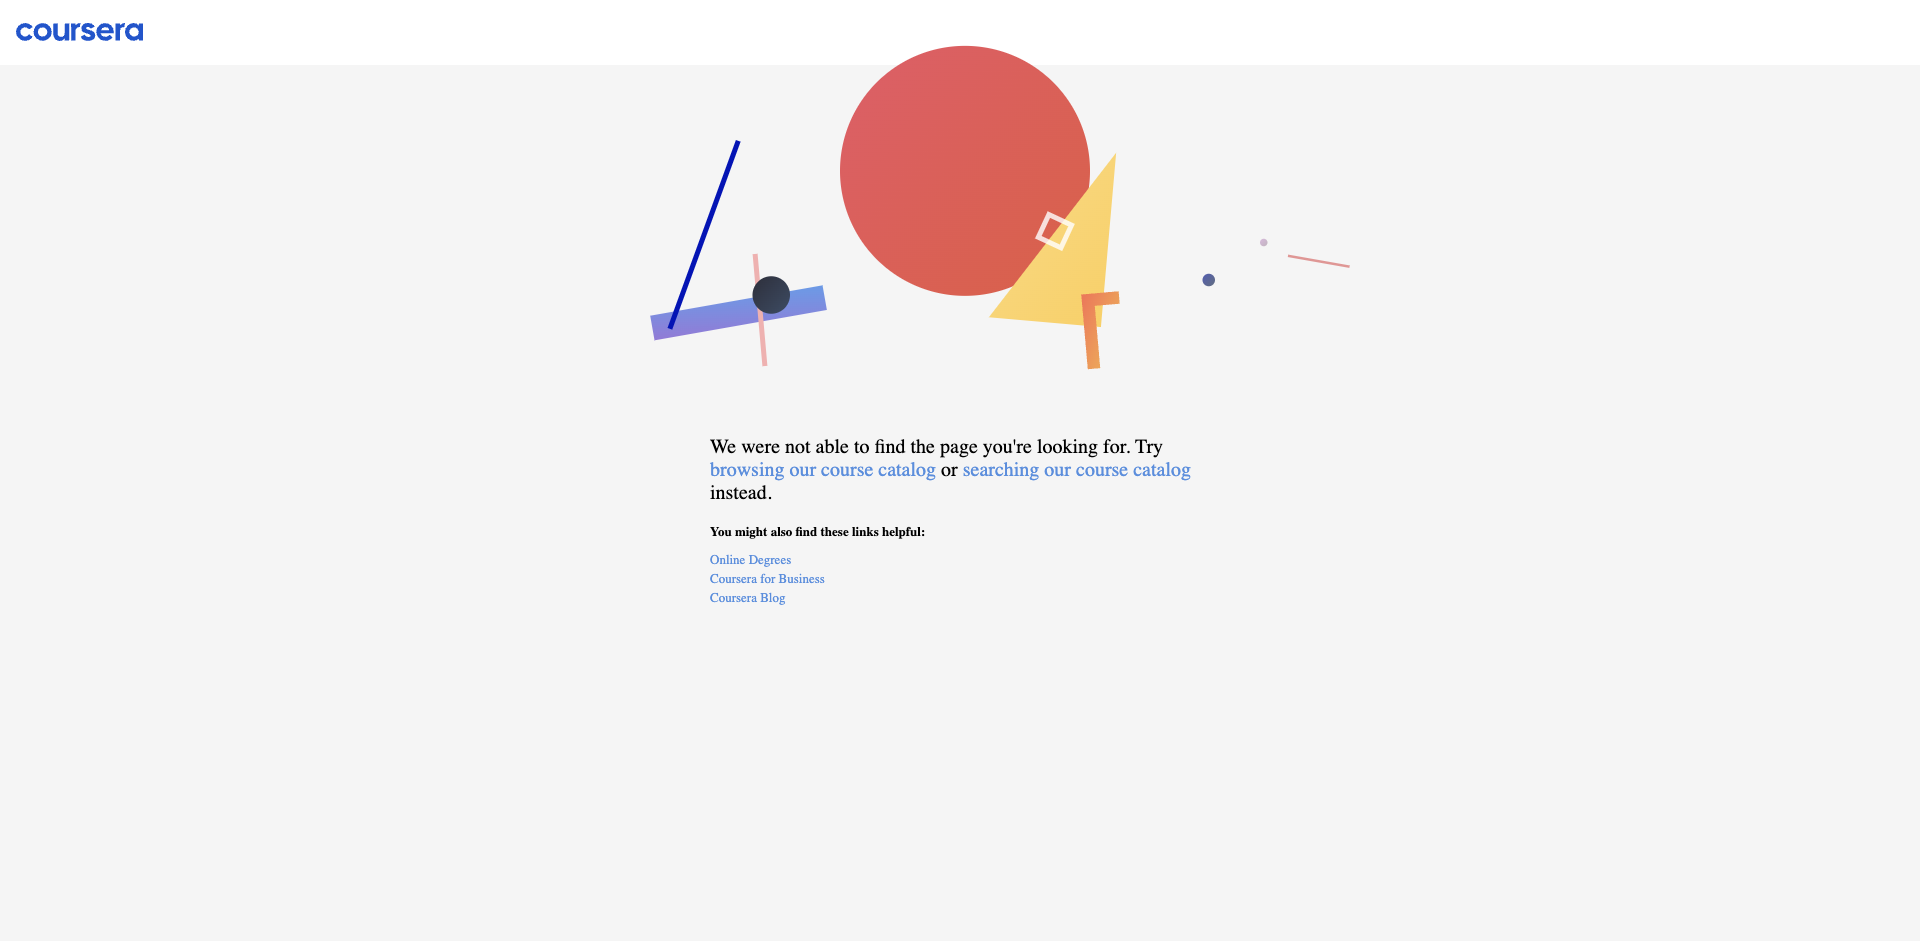button: (288, 426, 547, 490), (1523, 54, 1632, 92), (431, 54, 538, 92), (724, 533, 808, 581), (432, 591, 517, 638), (369, 437, 468, 477), (1523, 54, 1624, 92), (1155, 328, 1228, 365), (1294, 60, 1403, 85), (1446, 271, 1520, 306), (563, 448, 696, 467), (1403, 60, 1467, 85), (1467, 60, 1523, 85), (280, 109, 316, 145), (1455, 278, 1512, 299), (1163, 337, 1220, 357), (756, 544, 776, 569), (464, 603, 485, 626), (1204, 338, 1220, 354), (1496, 281, 1512, 297)
input: (546, 50, 1031, 94)
link: (429, 332, 795, 352), (624, 760, 778, 804), (576, 379, 736, 414), (408, 109, 563, 145), (696, 0, 827, 40), (809, 760, 921, 804), (560, 0, 680, 40), (296, 0, 414, 40), (430, 0, 544, 40), (579, 109, 698, 145), (386, 760, 479, 804), (288, 56, 415, 88), (511, 760, 593, 804), (953, 760, 1033, 804), (288, 760, 354, 804), (408, 366, 556, 386), (1294, 60, 1403, 85), (342, 626, 430, 651), (332, 109, 392, 145), (527, 534, 602, 557), (1403, 60, 1467, 85), (1467, 60, 1523, 85)
